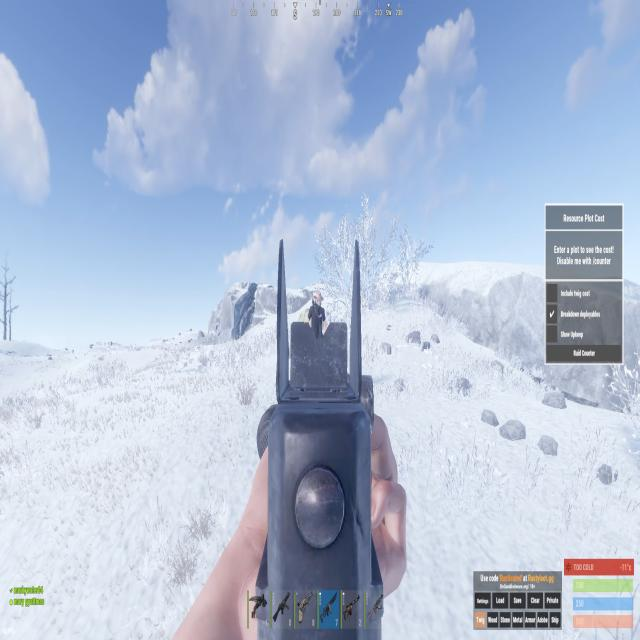Player: (306, 290, 327, 339)
